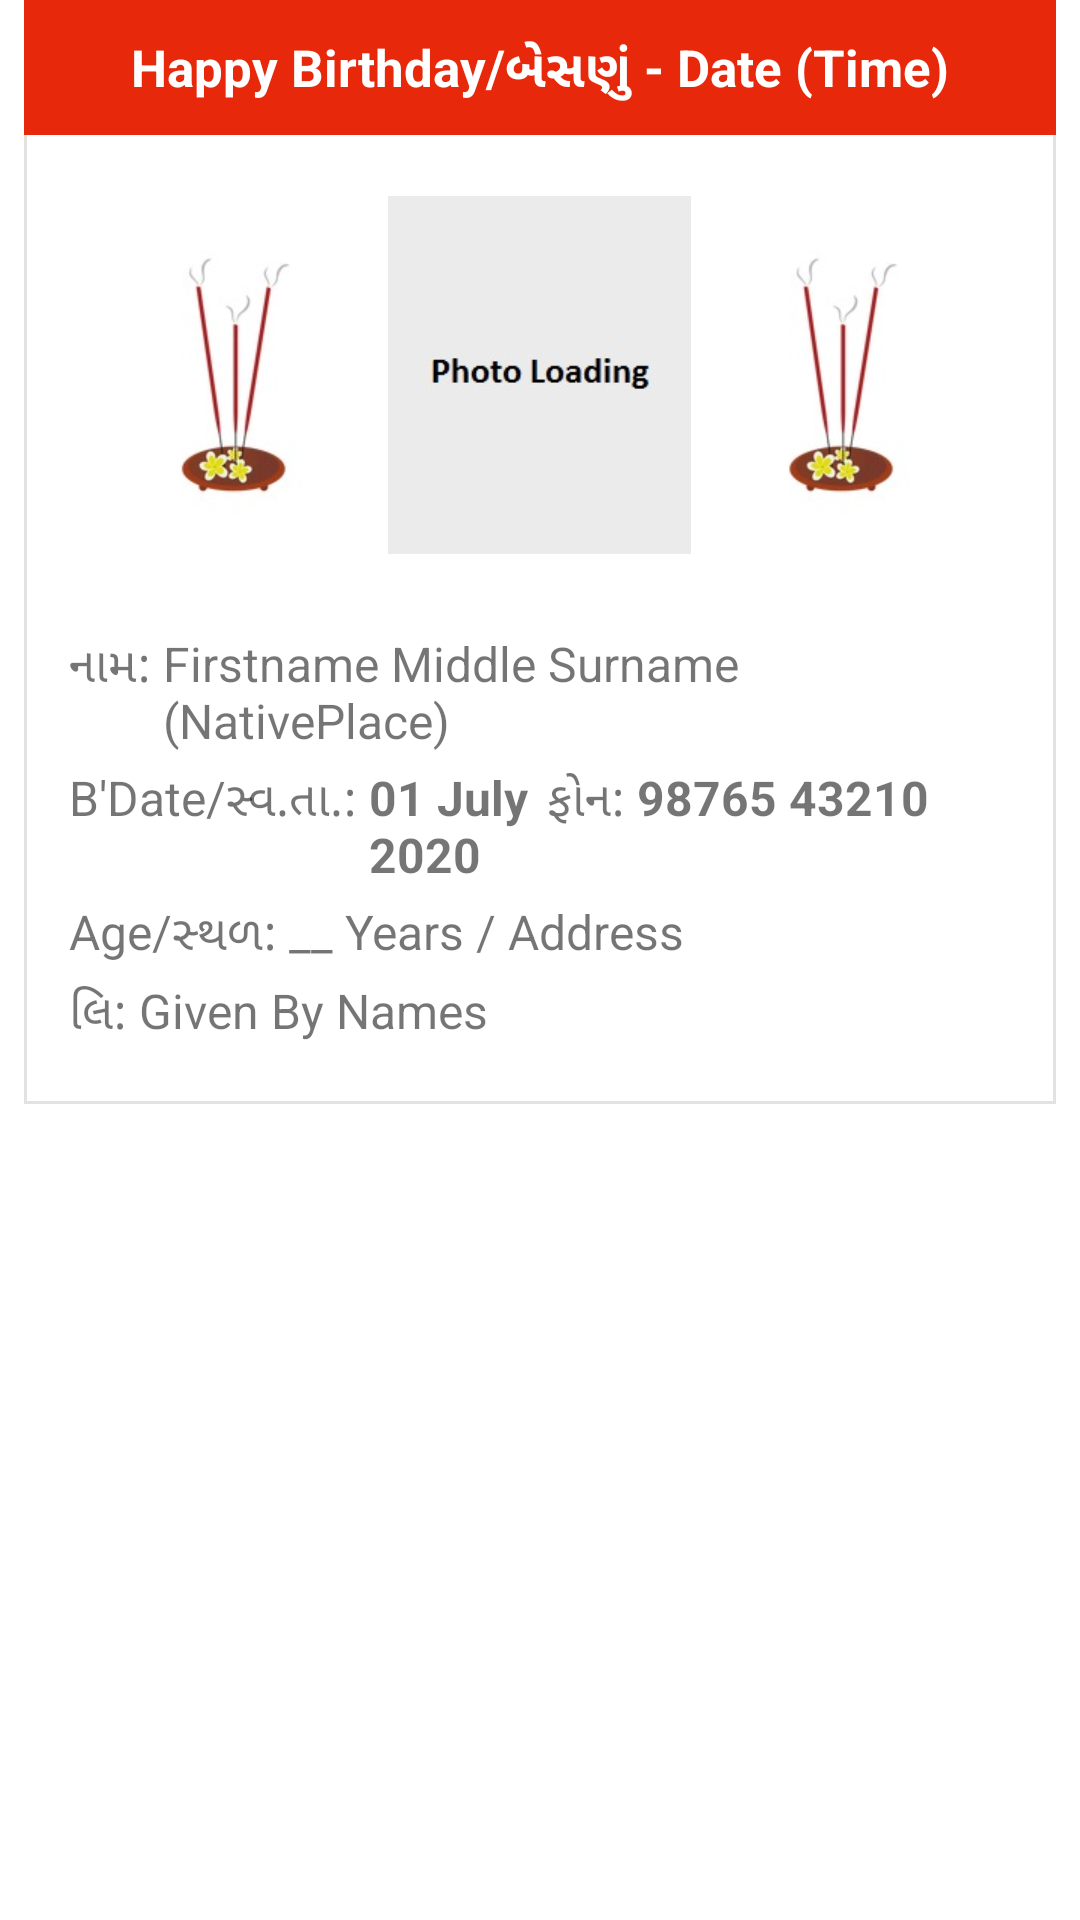

Where icons sit on this 1080×1920 app screen, as (x1, y1, x2, y2):
shradhanjali: (181, 259, 289, 493), (789, 259, 896, 493)
